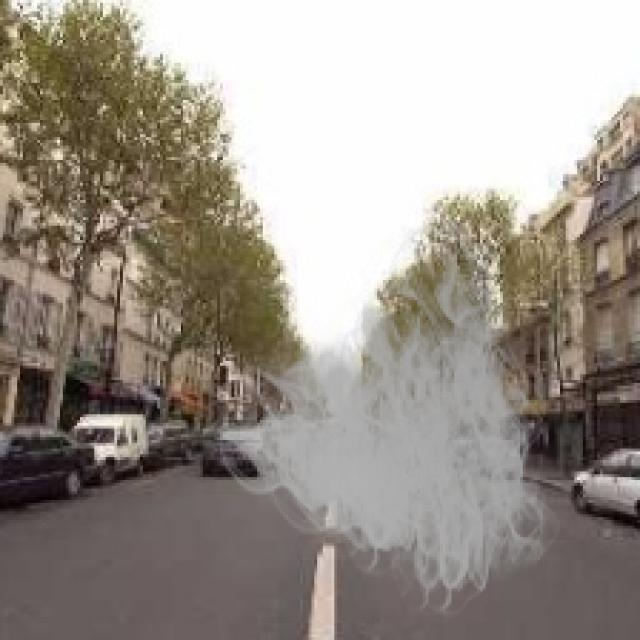Smoke: (208, 212, 568, 628)
